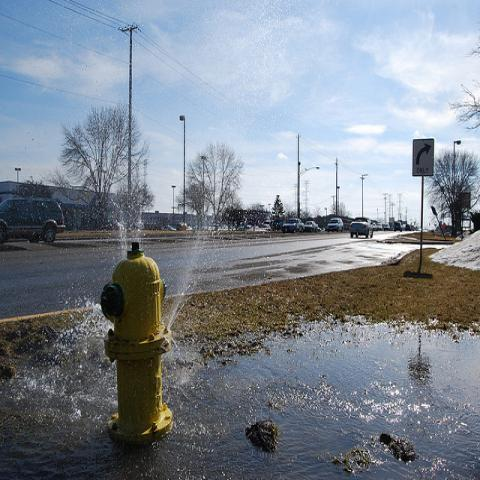car: (350, 216, 374, 238), (281, 217, 306, 234), (304, 221, 318, 233), (405, 224, 418, 232), (162, 225, 176, 231), (394, 222, 402, 232), (238, 224, 251, 230), (376, 223, 383, 231), (372, 222, 378, 231), (264, 224, 271, 231), (384, 223, 389, 232), (186, 226, 193, 231)
truck: (1, 197, 67, 246), (325, 217, 344, 233)
